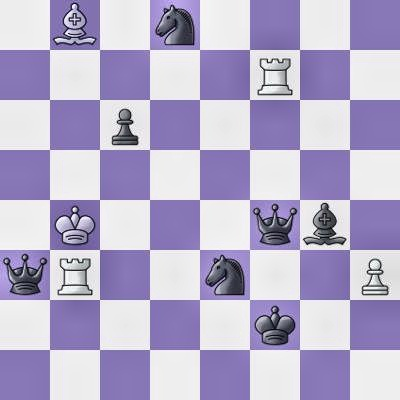black-bishop: (300, 200, 350, 250)
black-king: (250, 300, 300, 350)
black-knight: (150, 0, 200, 50), (200, 250, 250, 300)
black-pawn: (100, 100, 150, 150)
black-queen: (250, 200, 300, 250), (0, 250, 50, 300)
white-bishop: (50, 0, 100, 50)
white-king: (50, 200, 100, 250)
white-pawn: (350, 250, 400, 300)
white-rook: (250, 50, 300, 100), (50, 250, 100, 300)
